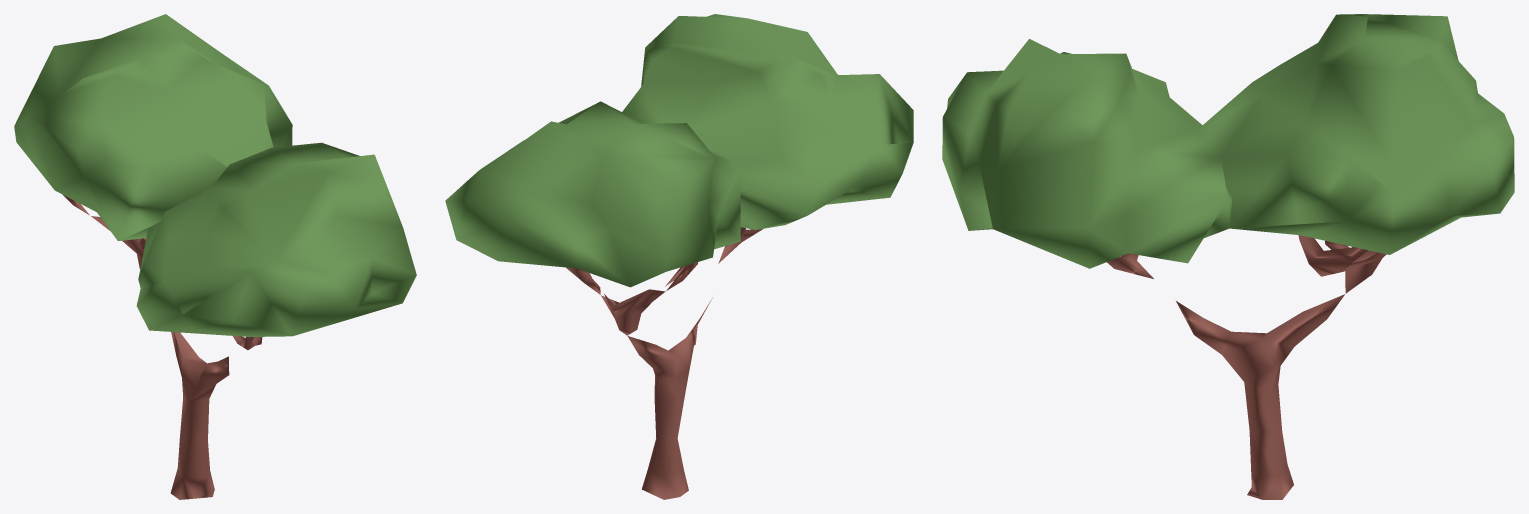
Rendered from CommonTree_1_lod.glb.
The picture shows the model from 3 angles, left to right: view 1: azimuth 30°, elevation 25°; view 2: azimuth 150°, elevation 25°; view 3: azimuth 270°, elevation 25°; orthographic projection. The views are drawn at different scales.
Visible parts, largest first — view 1: CommonTree_1; view 2: CommonTree_1; view 3: CommonTree_1.
Boxes of the visible parts, bbox=[...] form: CommonTree_1: bbox=[14, 14, 416, 499]; CommonTree_1: bbox=[445, 14, 913, 499]; CommonTree_1: bbox=[942, 14, 1514, 499].
Size of the model in its own units: 181 by 244 by 277.
